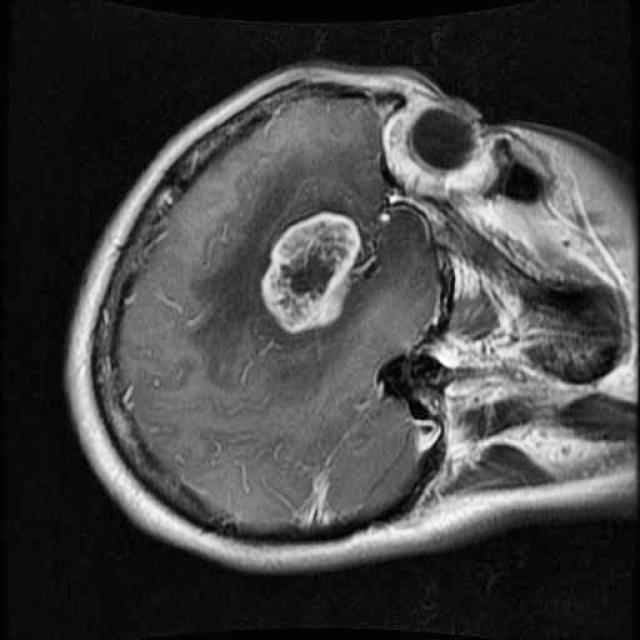Tumor: (242, 189, 378, 350)
